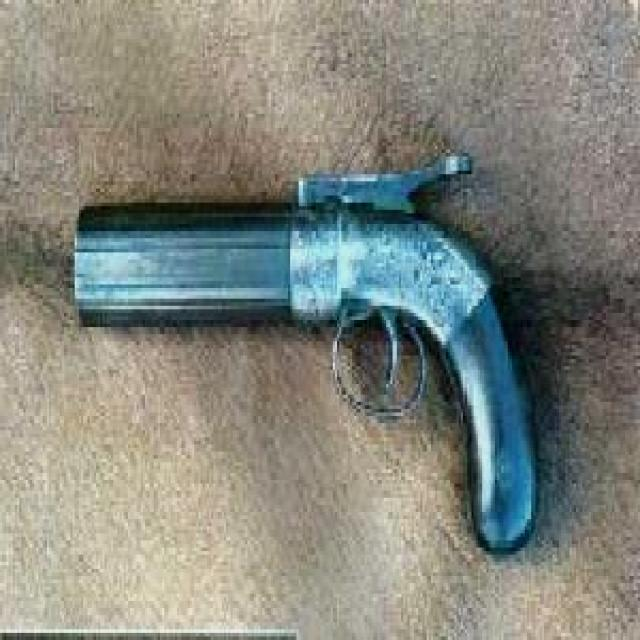pistol: (70, 139, 544, 537)
